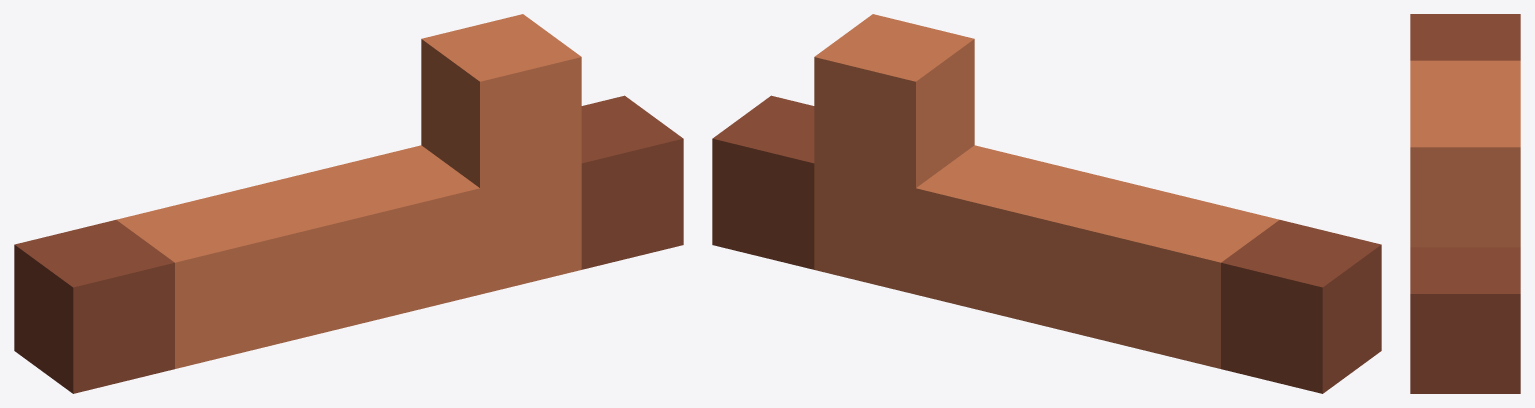
Rendered from wood-stick-02.obj.
The picture shows the model from 3 angles, left to right: view 1: azimuth 30°, elevation 25°; view 2: azimuth 150°, elevation 25°; view 3: azimuth 270°, elevation 25°; orthographic projection. The views are drawn at different scales.
Bounding box in the file's own units: 6 × 2 × 1.
1 material, 1 textured.
